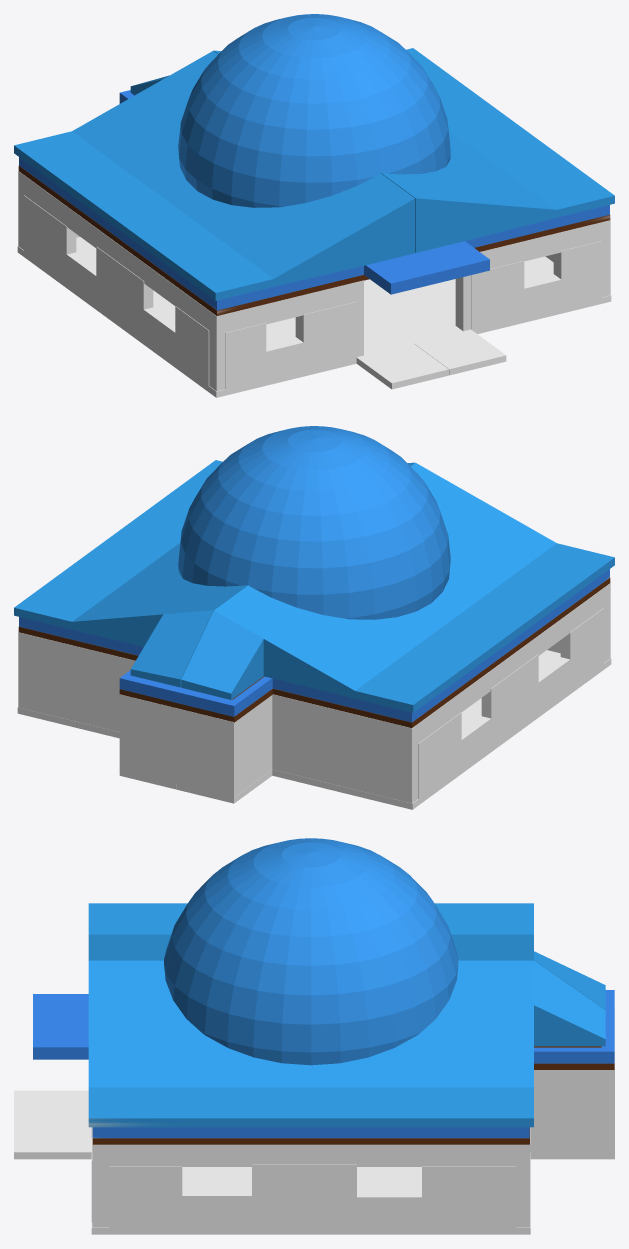
Rendered from Musholla.fbx.
3 views of the same model, one above another, from view 1: azimuth 30°, elevation 25°; view 2: azimuth 150°, elevation 25°; view 3: azimuth 270°, elevation 25° (orthographic). The views are drawn at different scales.
Visible parts, largest first — view 1: Cube; view 2: Cube; view 3: Cube.
Part boxes in pixels (x1,y1,x2,y2): Cube: (14, 14, 614, 397); Cube: (14, 426, 614, 809); Cube: (14, 838, 614, 1234).
Size of the model in its own units: 1375 by 824 by 1624.
